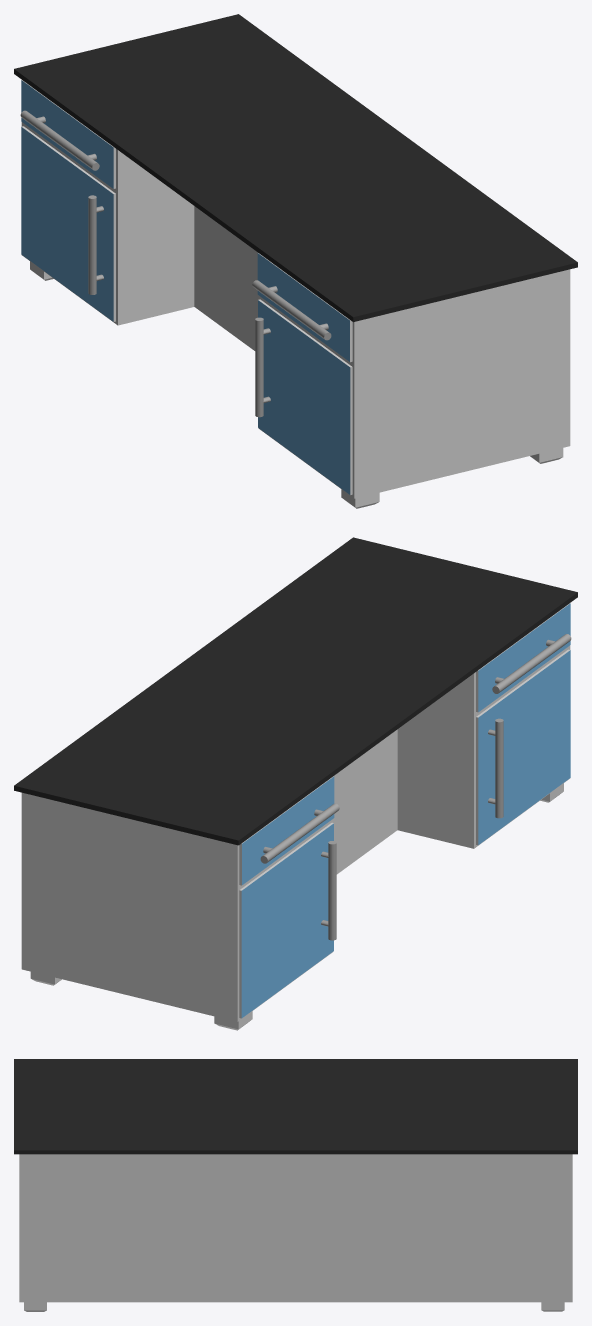
The model's file is Lab_Table_1.fbx.
3 renders of one model, top to bottom at view 1: azimuth 30°, elevation 25°; view 2: azimuth 150°, elevation 25°; view 3: azimuth 270°, elevation 25°, orthographic. The views are drawn at different scales.
Parts seen in each view (by area): view 1: Table; view 2: Table; view 3: Table.
Part boxes in pixels (bbox=[...]): Table: bbox=[14, 14, 577, 508]; Table: bbox=[14, 537, 577, 1030]; Table: bbox=[14, 1059, 577, 1311].
Bounding box in the file's own units: 380 × 308 × 946.
